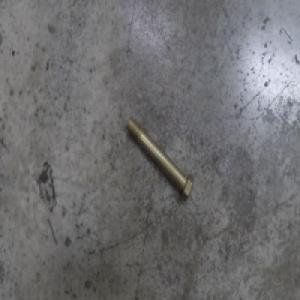Bolt: (126, 115, 195, 202)
